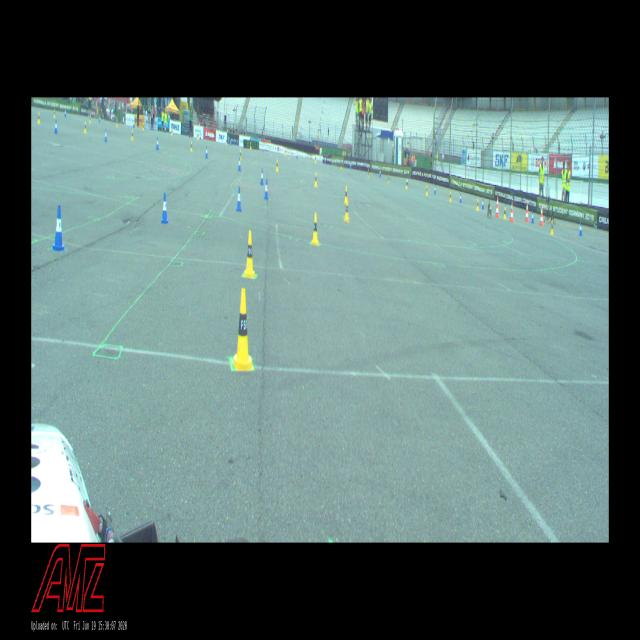blue_cone: (51, 205, 66, 251), (161, 192, 168, 224), (236, 186, 242, 212), (264, 180, 268, 200), (260, 168, 264, 185), (578, 221, 582, 236), (54, 120, 58, 134), (104, 128, 108, 142), (238, 157, 241, 171), (205, 145, 208, 158), (156, 137, 159, 150), (531, 210, 534, 223), (459, 194, 462, 203), (164, 125, 167, 134), (482, 199, 484, 209), (434, 184, 436, 194), (64, 109, 66, 117), (379, 169, 381, 177), (262, 145, 264, 152), (324, 157, 326, 164), (230, 139, 232, 145), (296, 152, 298, 158), (407, 177, 408, 186), (351, 162, 352, 169), (99, 115, 100, 122), (200, 133, 201, 139)
large_orange_cone: (509, 202, 514, 222), (539, 208, 544, 225), (495, 196, 499, 217), (525, 202, 529, 222)
yellow_cone: (232, 288, 253, 371), (243, 231, 256, 277), (312, 212, 318, 245), (344, 198, 349, 222), (343, 185, 348, 204), (550, 220, 554, 234), (314, 173, 318, 187), (503, 206, 507, 219), (476, 199, 479, 211), (449, 190, 452, 202), (425, 185, 428, 196), (131, 130, 134, 140), (276, 158, 278, 172), (38, 111, 40, 124), (84, 121, 86, 133), (240, 149, 242, 161), (406, 178, 408, 189), (190, 141, 192, 151), (388, 174, 390, 184), (54, 109, 56, 118), (225, 138, 228, 144), (142, 123, 144, 131), (368, 169, 370, 177), (116, 119, 118, 127), (89, 116, 91, 123), (197, 133, 199, 140), (171, 128, 173, 135), (250, 142, 252, 149), (284, 149, 286, 156), (315, 154, 316, 164), (341, 162, 342, 170)
